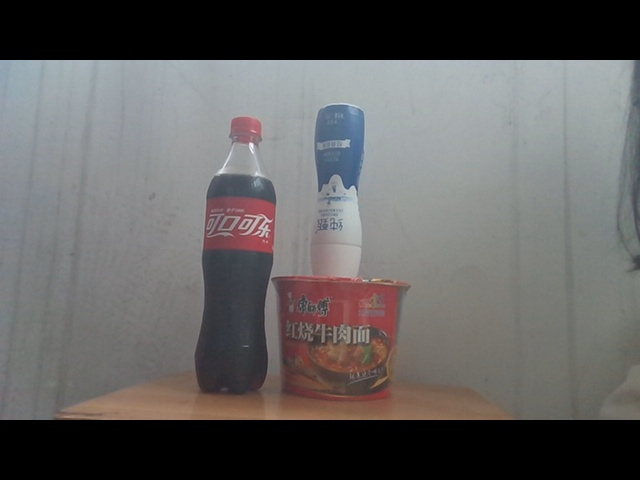cola: (194, 117, 277, 394)
kangshifu: (269, 275, 412, 403)
yogurt: (310, 102, 366, 280)
